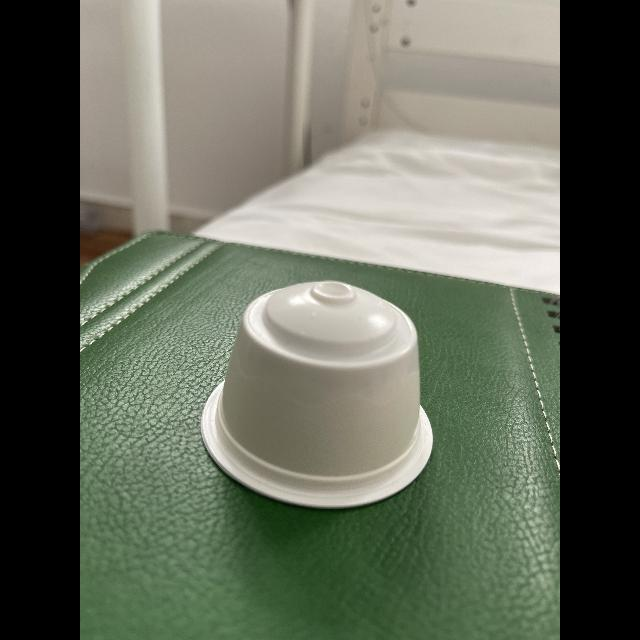intact_capsule: (172, 256, 473, 520)
